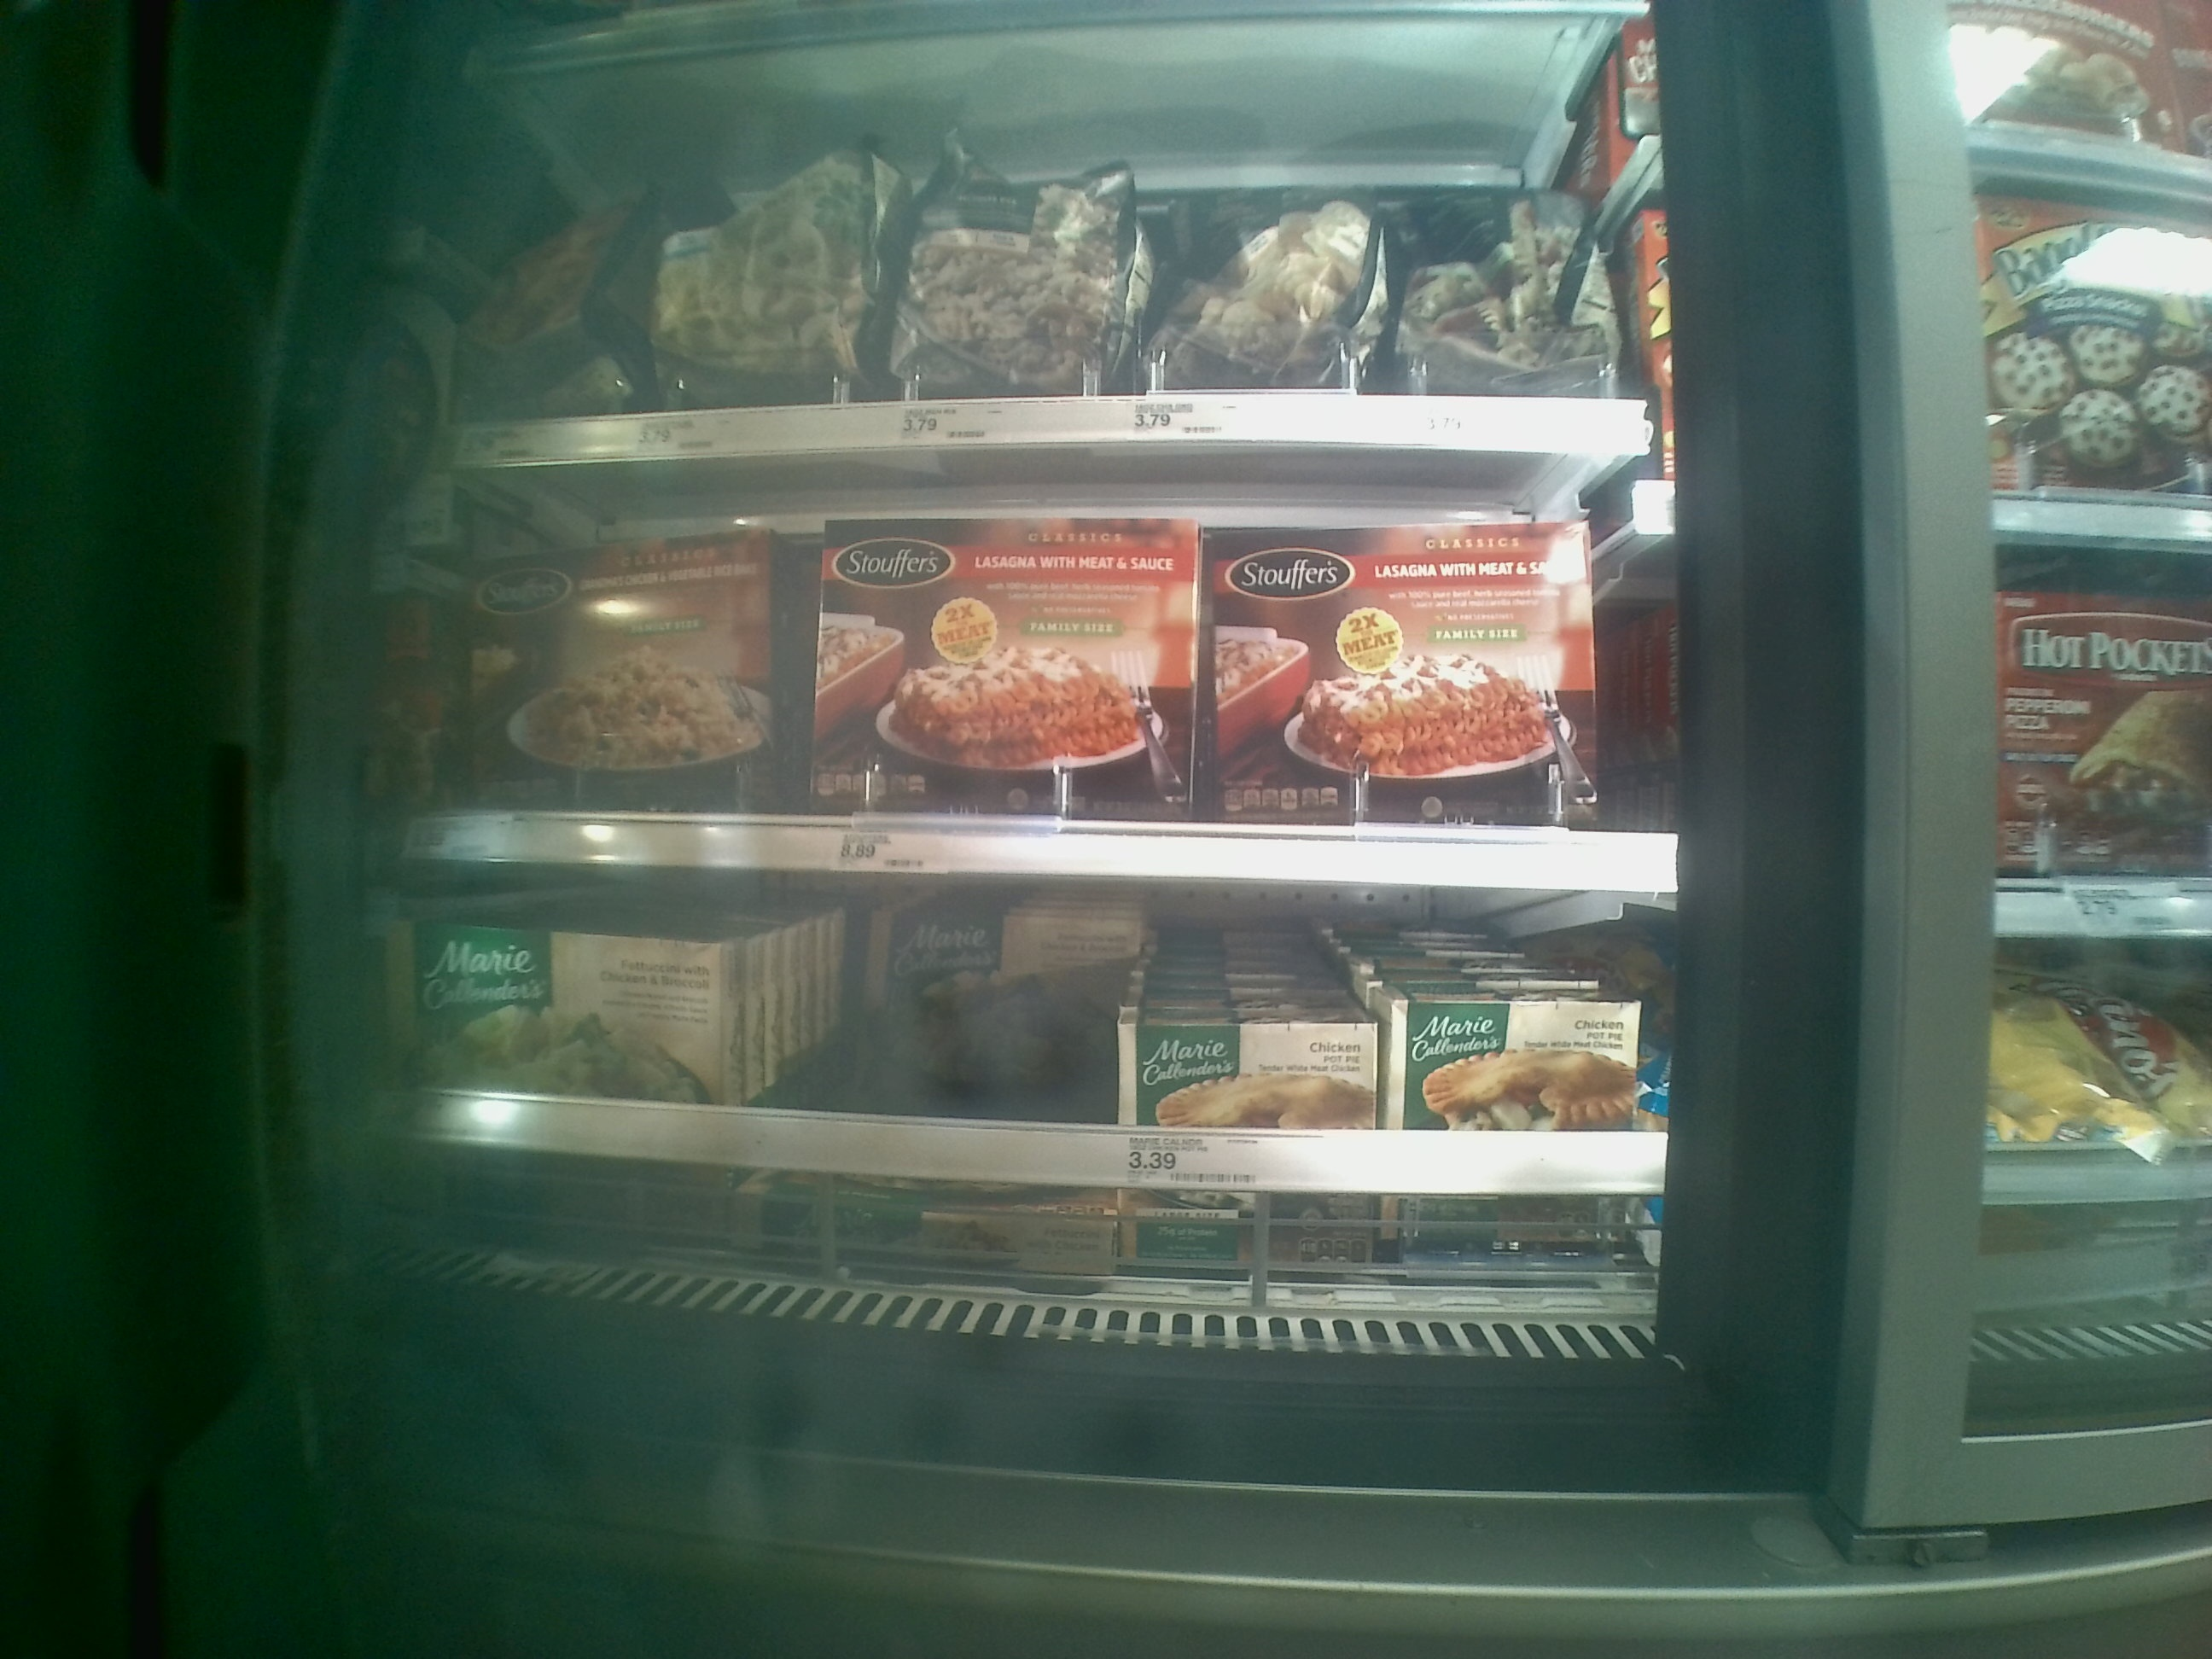frozen-food-shelf: (425, 469, 1660, 892), (402, 871, 1653, 1188)
